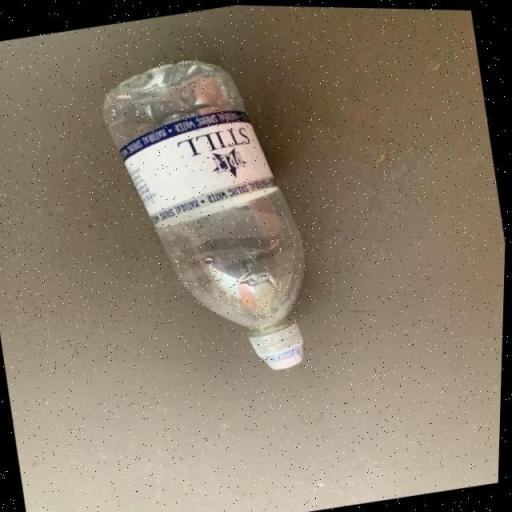plastic: (90, 38, 336, 396)
